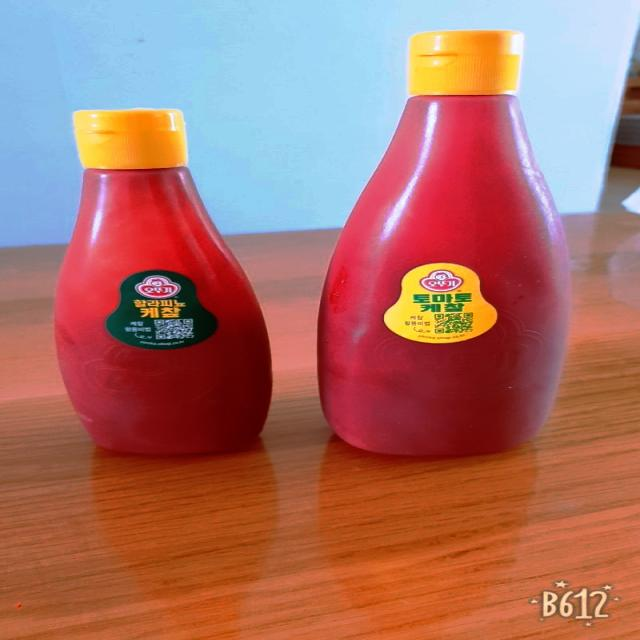ketchup: (310, 28, 576, 460), (46, 107, 282, 459)
